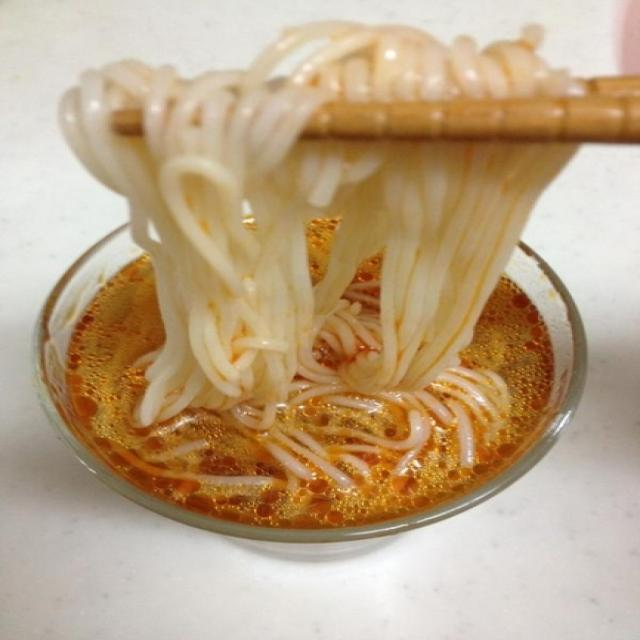面条主食: (29, 15, 596, 496)
